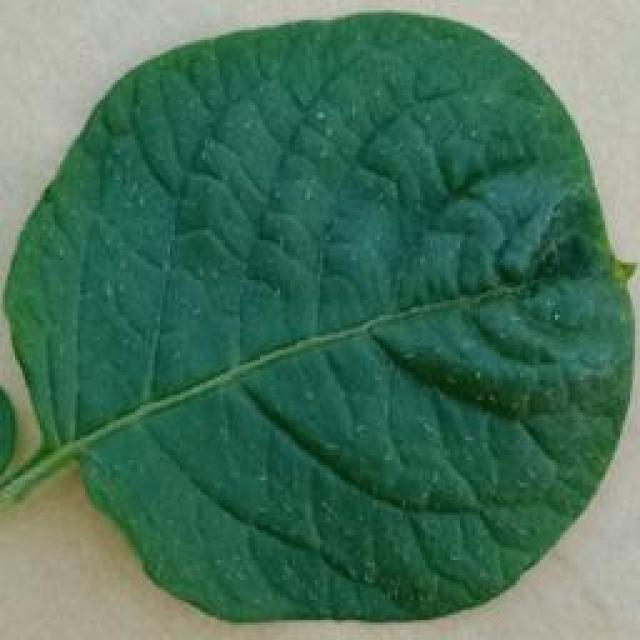Potato_Healthy: (6, 12, 628, 621)
